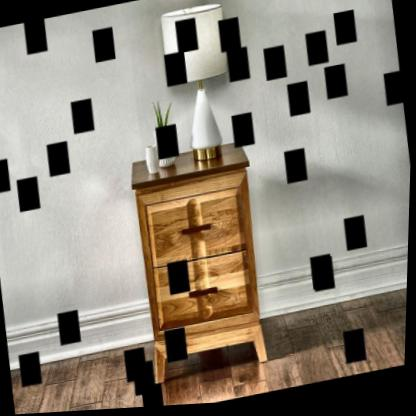Lamp: (153, 2, 242, 152)
Nightstand: (125, 145, 274, 376)
